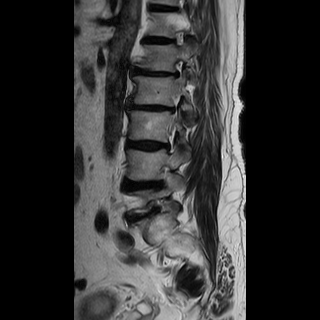LFS1: (168, 54, 189, 83)
